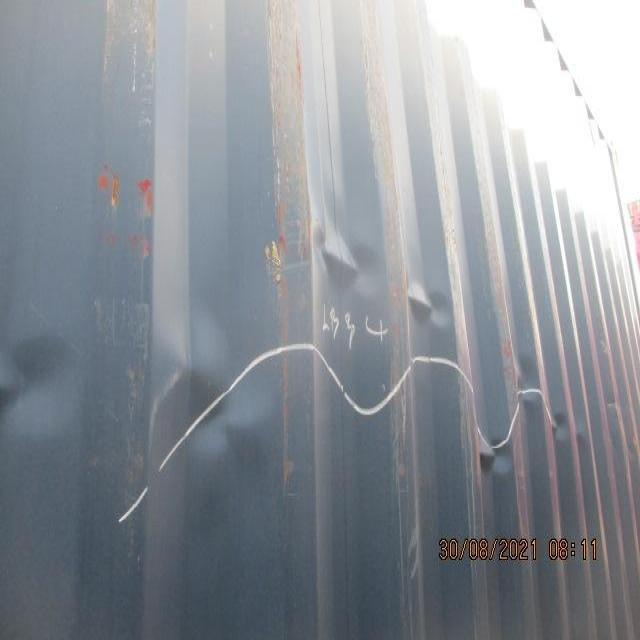dent: (155, 313, 277, 472), (2, 325, 85, 454), (513, 348, 594, 449), (311, 214, 388, 309), (405, 265, 459, 338), (473, 424, 520, 485)
